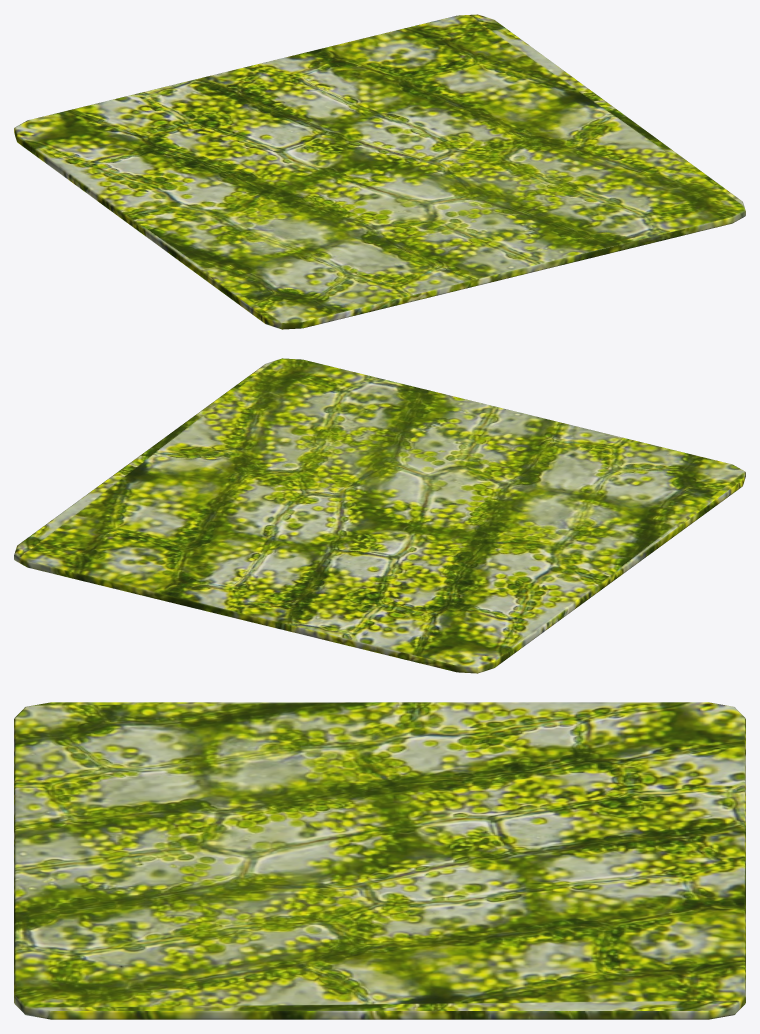
Rendered from klorophill.fbx.
3 renders of one model, top to bottom at view 1: azimuth 30°, elevation 25°; view 2: azimuth 150°, elevation 25°; view 3: azimuth 270°, elevation 25°, orthographic. The views are drawn at different scales.
Visible parts, largest first — view 1: Chlorophyll:Chlorophyll; view 2: Chlorophyll:Chlorophyll; view 3: Chlorophyll:Chlorophyll.
Boxes of the visible parts, box(x1,y1,x2,y2) form: Chlorophyll:Chlorophyll: box(14, 14, 745, 329); Chlorophyll:Chlorophyll: box(14, 358, 745, 673); Chlorophyll:Chlorophyll: box(14, 702, 745, 1019).
Bounding box in the file's own units: 29.56 × 0.4499 × 29.56.
1 material, 1 textured.
